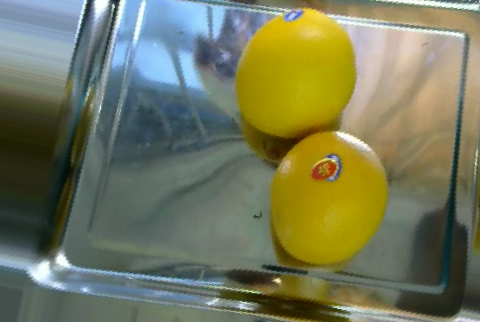Orange: (269, 131, 389, 265), (236, 6, 356, 137)
